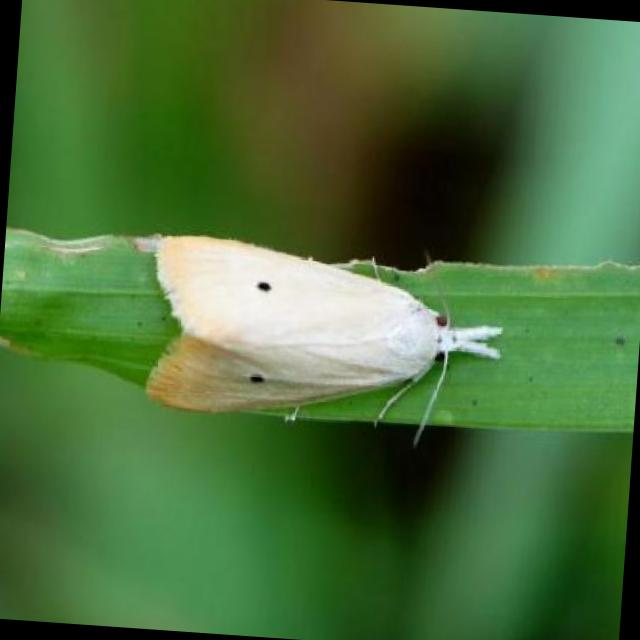stem-borer: (140, 230, 512, 439)
